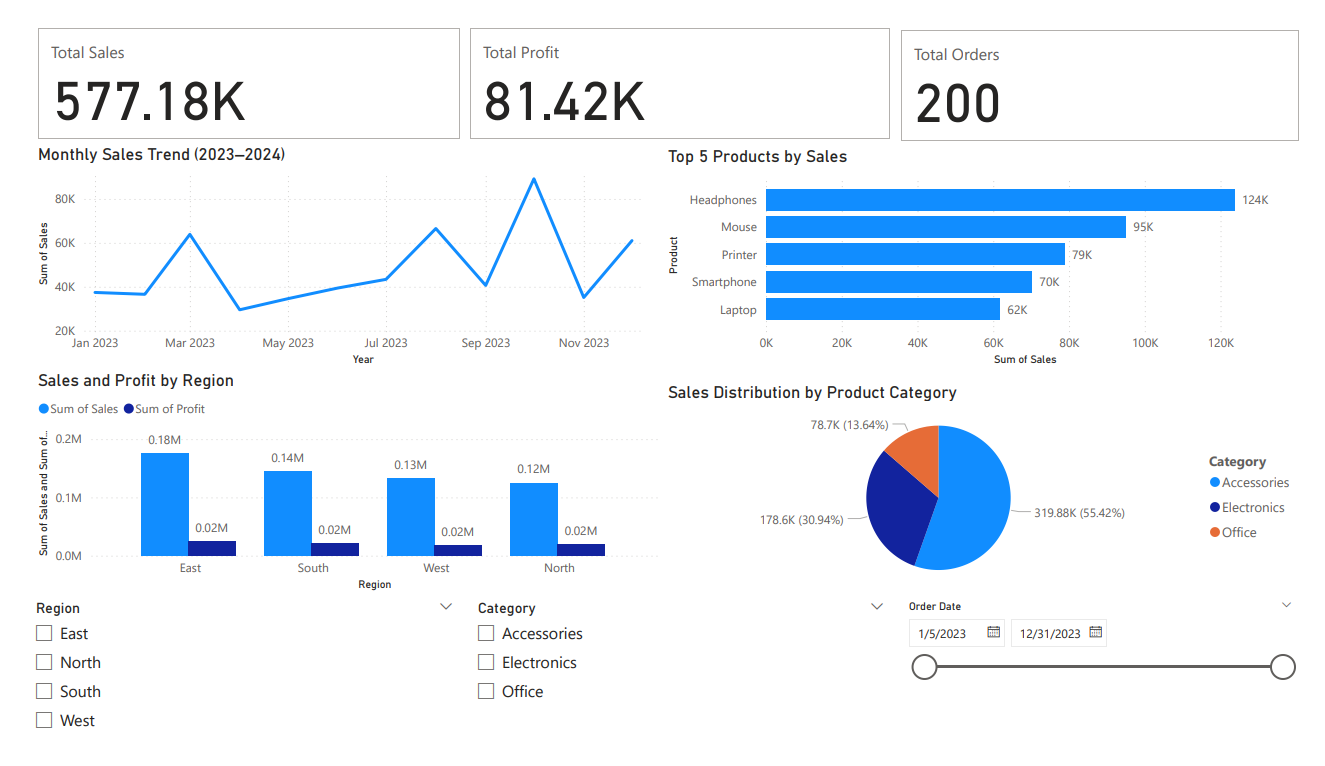

The dashboard page shown, as its layout file describes it:
{"tool":"powerbi","page":{"name":"Page 1","canvas":[1280,720],"ordinal":0},"visuals":[{"type":"cardVisual","fields":{"Data":["Sum(sales_data_project.Sales)"]},"box":[9.7,0,432.3,121.4],"z":0},{"type":"lineChart","title":"Monthly Sales Trend (2023–2024)","fields":{"Y":["Sum(sales_data_project.Sales)"],"Category":["sales_data_project.Order Date.Variation.Date Hierarchy.Year","sales_data_project.Order Date.Variation.Date Hierarchy.Month"]},"box":[9.7,121.4,629.9,225.1],"z":1000},{"type":"clusteredBarChart","title":"Top 5 Products by Sales","fields":{"Y":["Sum(sales_data_project.Sales)"],"Category":["sales_data_project.Product"]},"box":[639.6,123.1,641.2,223.5],"z":2000},{"type":"cardVisual","fields":{"Data":["Sum(sales_data_project.Profit)"]},"box":[442,0,430.7,121.4],"z":3000},{"type":"cardVisual","fields":{"Data":["CountNonNull(sales_data_project.Product)"]},"box":[872.8,1.6,408,121.4],"z":4000},{"type":"clusteredColumnChart","title":"Sales and Profit by Region","fields":{"Category":["sales_data_project.Region"],"Y":["Sum(sales_data_project.Sales)","Sum(sales_data_project.Profit)"]},"box":[9.7,346.5,629.9,225.1],"z":5000},{"type":"pieChart","title":"Sales Distribution by Product Category","fields":{"Category":["sales_data_project.Category"],"Y":["Sum(sales_data_project.Sales)"]},"box":[639.6,359.5,641.2,212.1],"z":6000},{"type":"slicer","fields":{"Values":["sales_data_project.Region"]},"box":[0,571.6,442,149],"z":7000},{"type":"slicer","fields":{"Values":["sales_data_project.Category"]},"box":[442,571.6,430.7,149],"z":8000},{"type":"slicer","fields":{"Values":["sales_data_project.Order Date"]},"box":[872.8,571.6,408,149],"z":9000}]}

Visuals, with their boxes in screenshot pixels (x1, y1, x2, y2), scaled from the page's 1280x720 canvas onto the 1325x766 screenshot:
cardVisual - Sum(sales_data_project.Sales): 10:0:458:129
"Monthly Sales Trend (2023–2024)" lineChart: 10:129:662:369
"Top 5 Products by Sales" clusteredBarChart: 662:131:1324:369
cardVisual - Sum(sales_data_project.Profit): 458:0:903:129
cardVisual - CountNonNull(sales_data_project.Product): 903:2:1324:131
"Sales and Profit by Region" clusteredColumnChart: 10:369:662:608
"Sales Distribution by Product Category" pieChart: 662:382:1324:608
slicer - sales_data_project.Region: 0:608:458:765
slicer - sales_data_project.Category: 458:608:903:765
slicer - sales_data_project.Order Date: 903:608:1324:765
